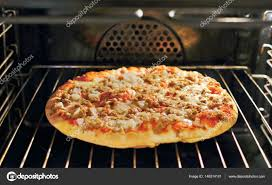pizza: (50, 69, 234, 145)
